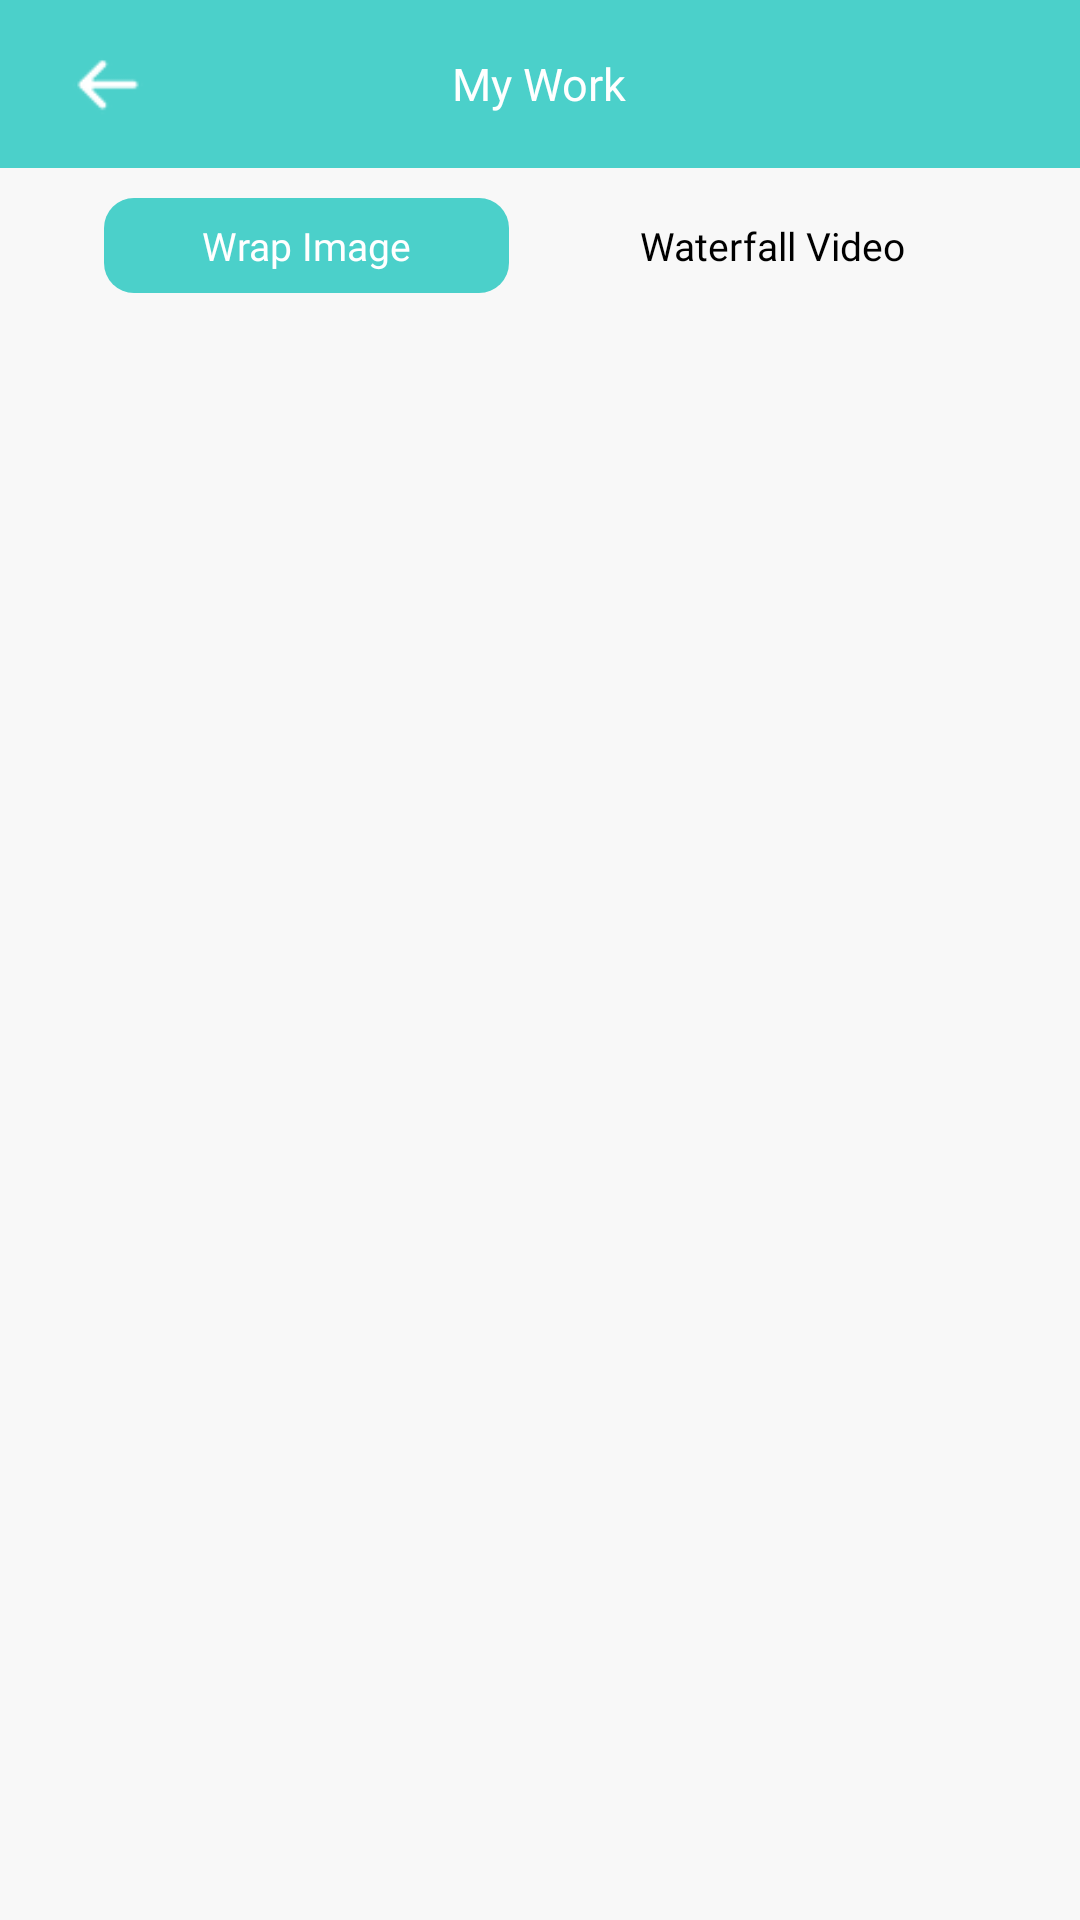

Screen size 1080×1920. Icon name, then its center in pixels as (x=x, y=y):
back: (x=108, y=85)
